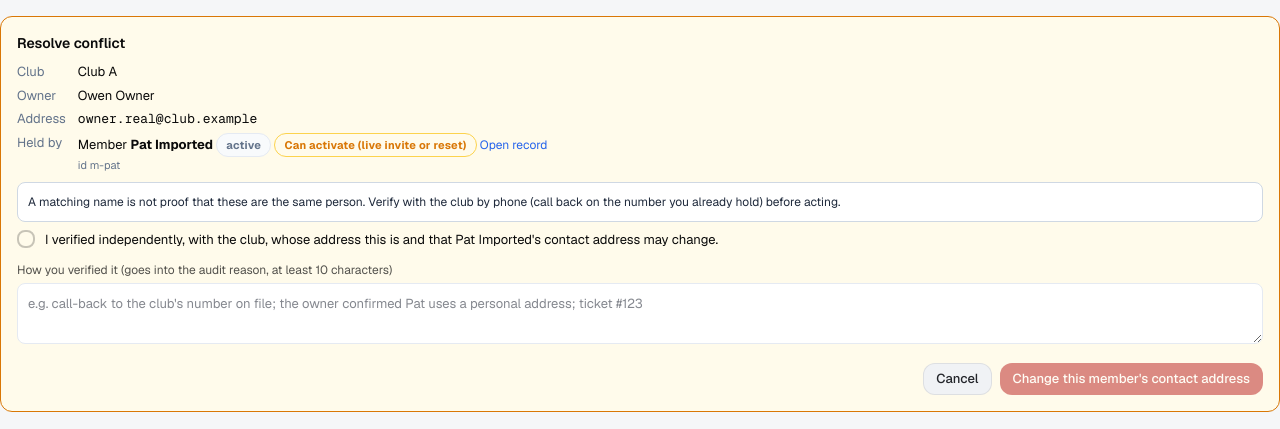
ConflictPanel › shows club, owner and holder, warns that a name is not proof, and needs the verified tick AND a note
Expected: the text "Club A" is shown, 78,63 -> 117,80
Expected: the text "Owen Owner" is shown, 78,86 -> 155,104
Click the checkbox: (26, 238) 17,230 -> 35,248
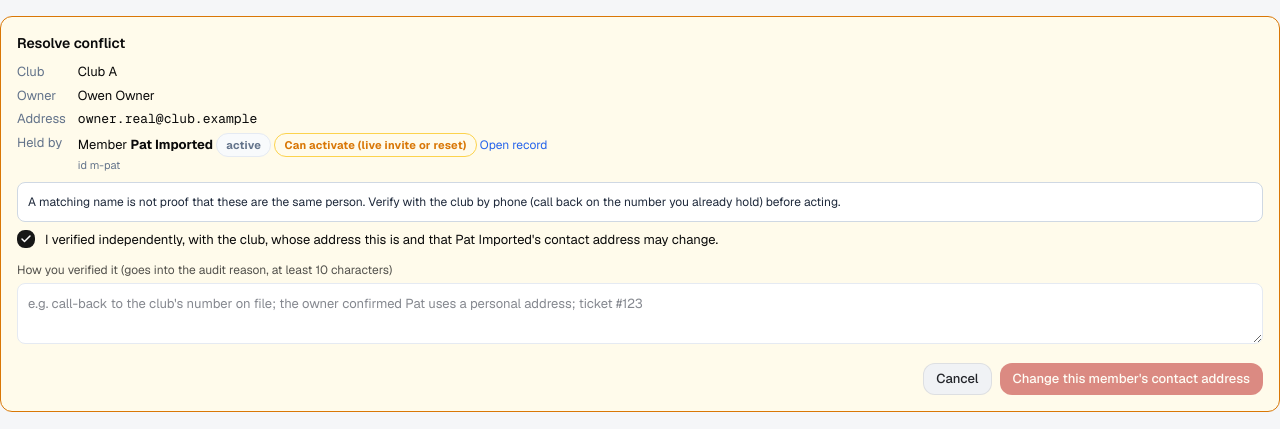
Expected: the button "Change this member's contact address" is disabled, 1000,363 -> 1263,395
Replace the text in the text box labelled "How you verified it" with "call-back to the club number on file": (640, 314) 17,283 -> 1263,344
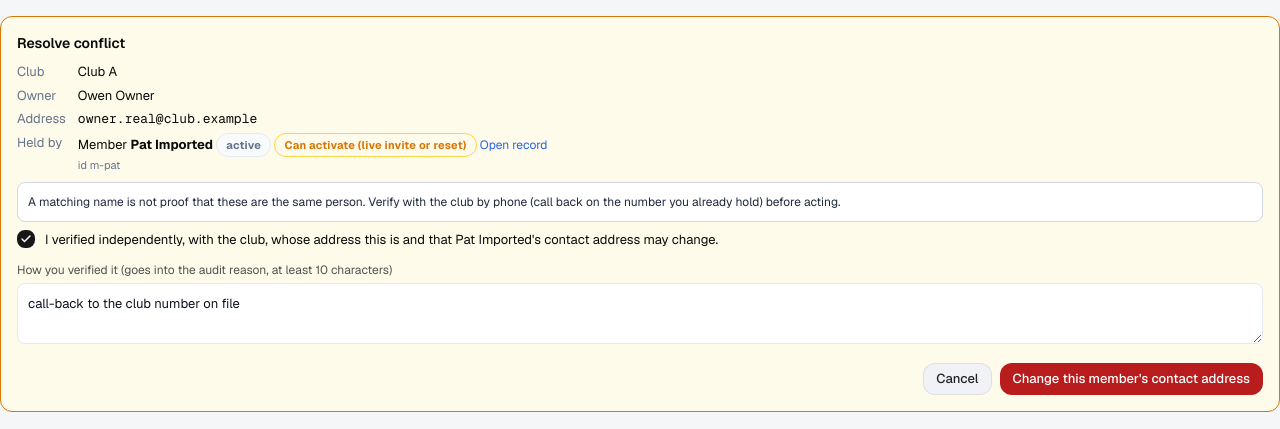
Expected: the button "Change this member's contact address" is enabled, 1000,363 -> 1263,395
Click the checkbox: (26, 238) 17,230 -> 35,248
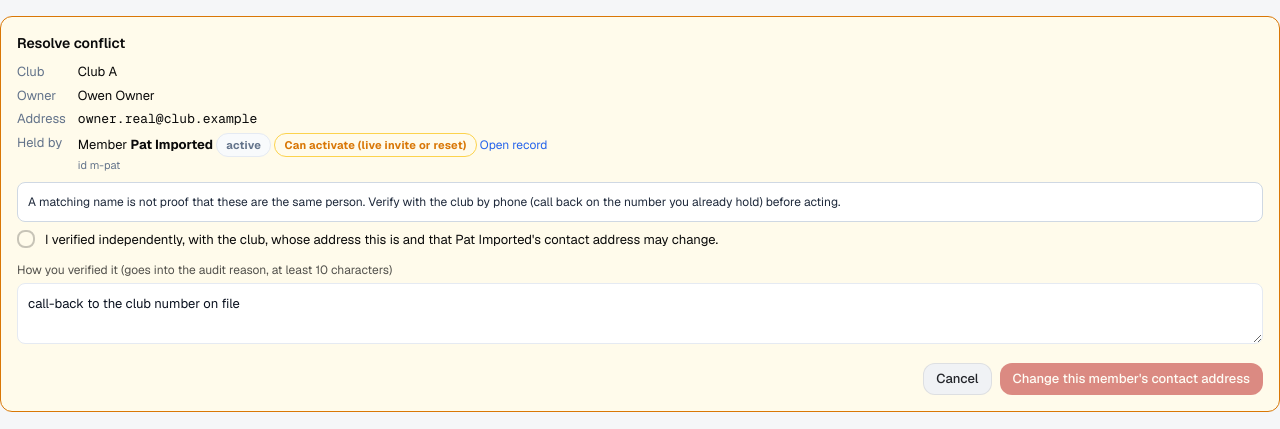
Expected: the button "Change this member's contact address" is disabled, 1000,363 -> 1263,395
